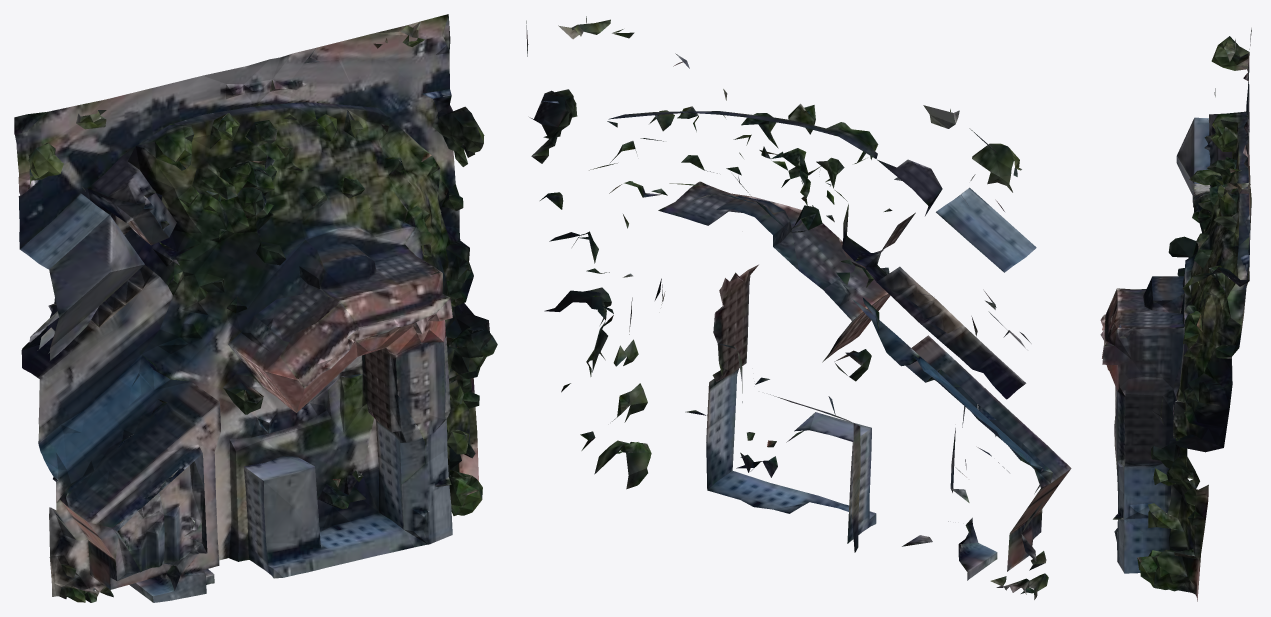
The model's file is Tile_+036_+023_L17_0003.glb.
The picture shows the model from 3 angles, left to right: view 1: azimuth 30°, elevation 25°; view 2: azimuth 150°, elevation 25°; view 3: azimuth 270°, elevation 25°; orthographic projection. The views are drawn at different scales.
Bounding box in the file's own units: 126 × 126 × 44.36.
Materials: 1 (1 with a texture image).
